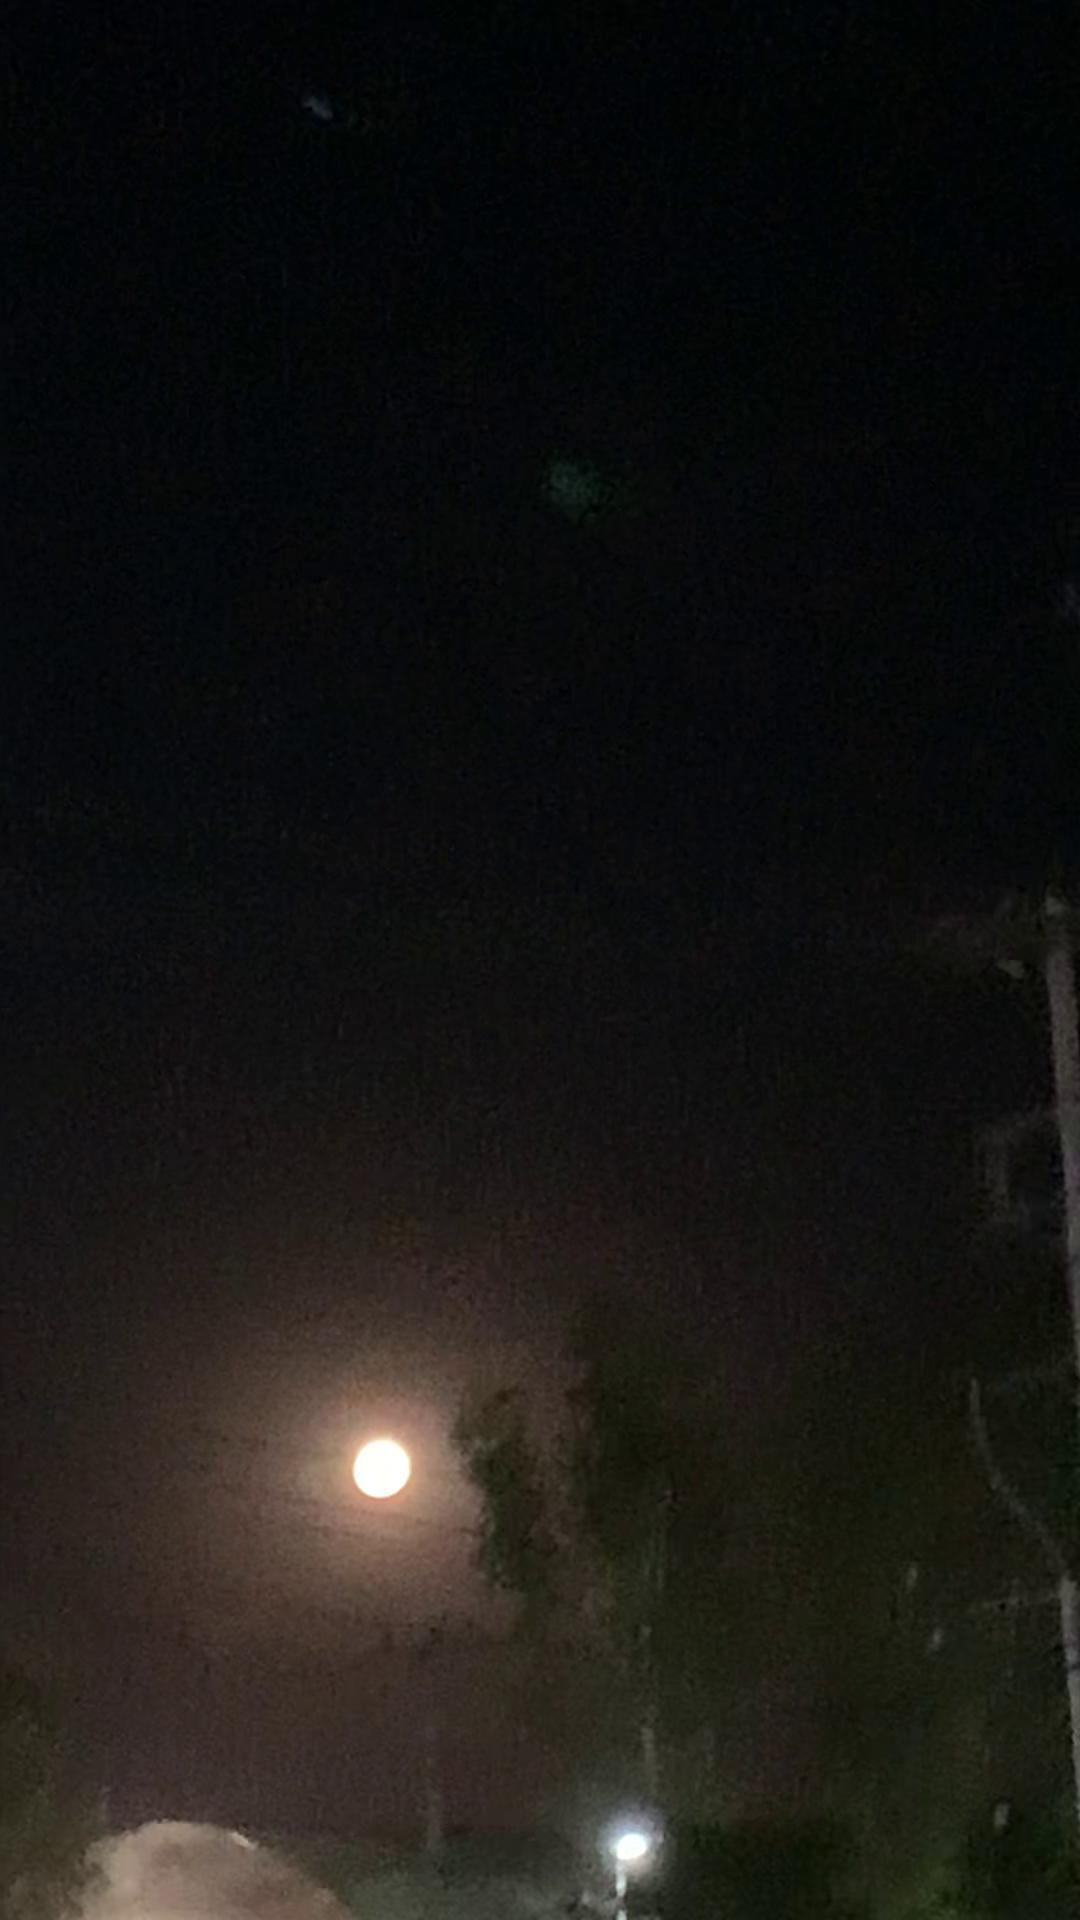moon: (352, 1424, 442, 1501)
